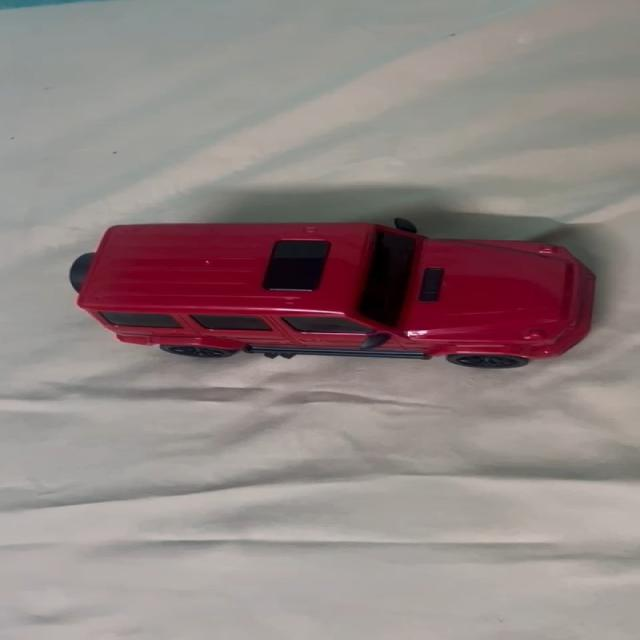light_vehicle: (56, 220, 600, 372)
